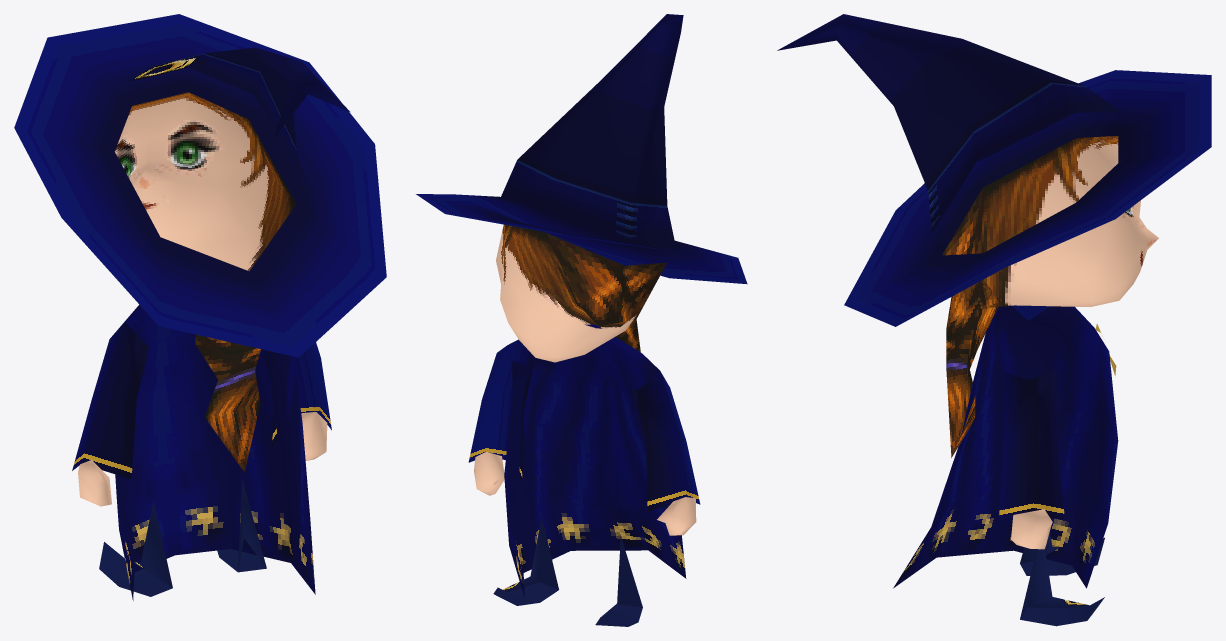
Rendered from ps2_save-icons_castleween.glb.
3 renders of one model, left to right at view 1: azimuth 30°, elevation 25°; view 2: azimuth 150°, elevation 25°; view 3: azimuth 270°, elevation 25°, orthographic. The views are drawn at different scales.
Visible parts, largest first — view 1: listicon.ico; view 2: listicon.ico; view 3: listicon.ico.
Boxes of the visible parts, x1,y1,x2,y2 form: listicon.ico: (14, 14, 386, 600); listicon.ico: (416, 14, 747, 626); listicon.ico: (777, 14, 1211, 626).
Size of the model in its own units: 2.22 by 3.94 by 2.68.
1 material, 1 textured.
